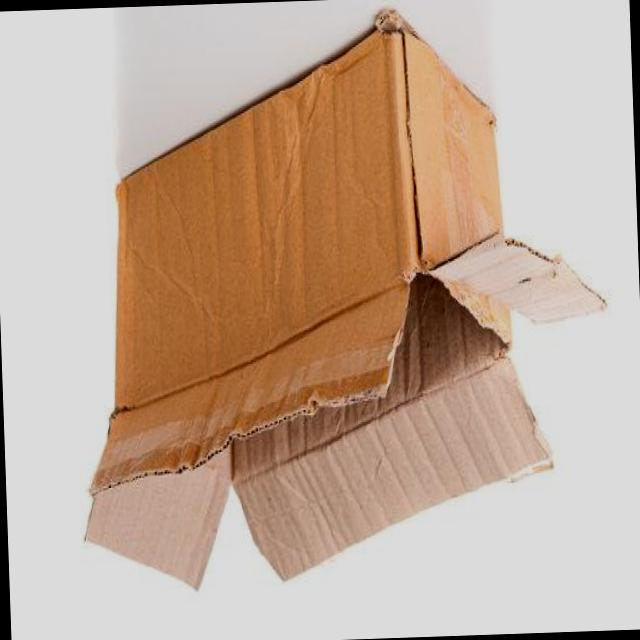Garbage: (64, 0, 620, 607)
